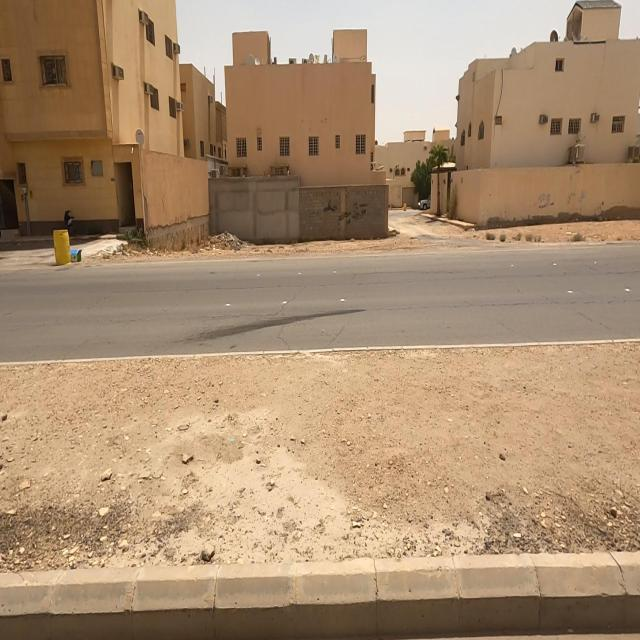Graffiti: (323, 200, 370, 229), (538, 195, 556, 213)
